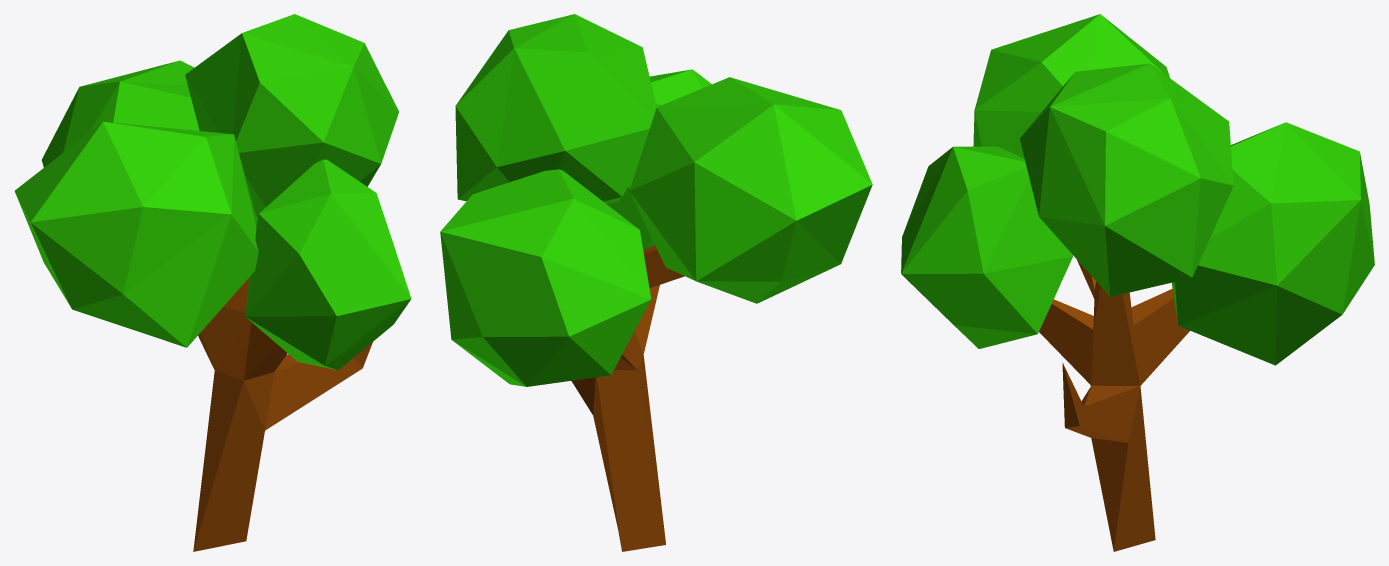
The model's file is Tree1Fixed.fbx.
3 views of the same model, side by side, from view 1: azimuth 30°, elevation 25°; view 2: azimuth 150°, elevation 25°; view 3: azimuth 270°, elevation 25° (orthographic).
Visible parts, largest first — view 1: Icosphere.005; view 2: Icosphere.005; view 3: Icosphere.005.
Boxes of the visible parts, x1,y1,x2,y2 form: Icosphere.005: (14, 14, 411, 551); Icosphere.005: (440, 14, 872, 551); Icosphere.005: (901, 14, 1374, 551).
Size of the model in its own units: 1338 by 1635 by 1418.
